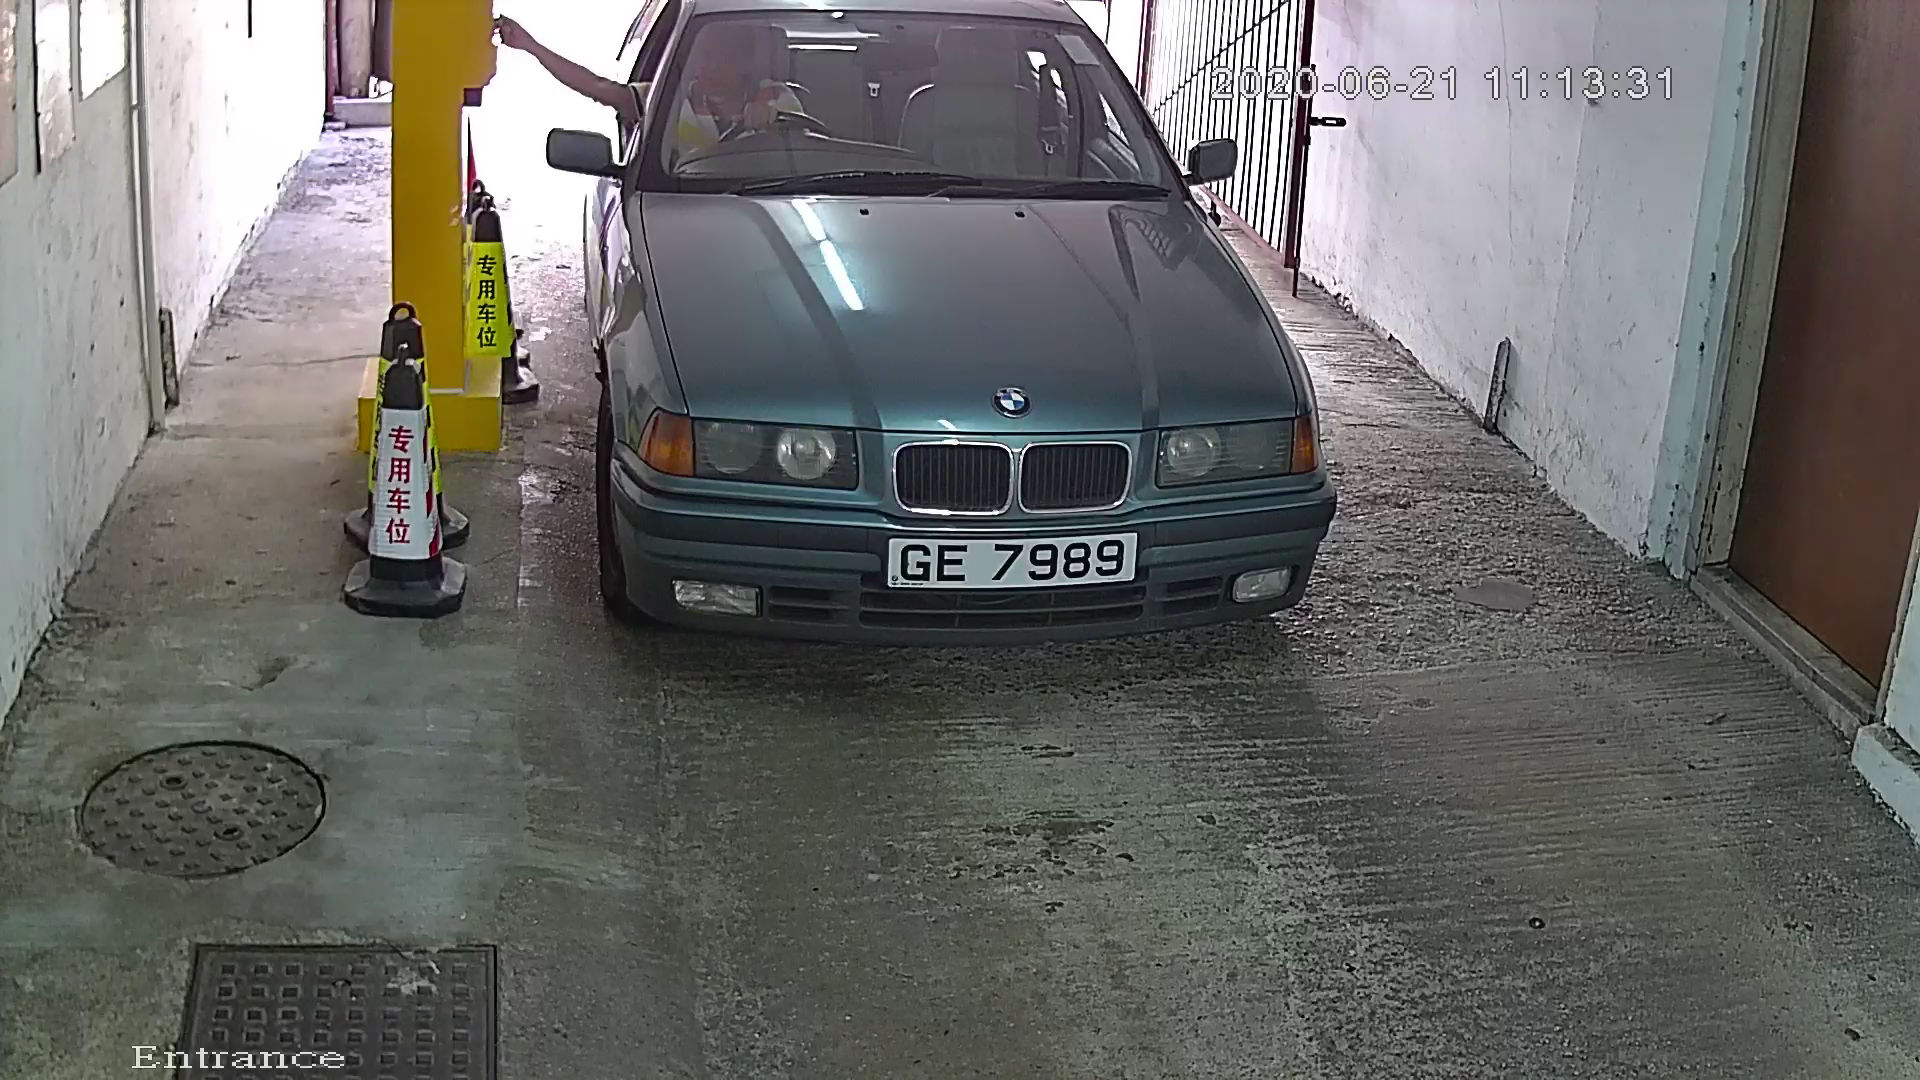privatecar: (538, 1, 1375, 717)
